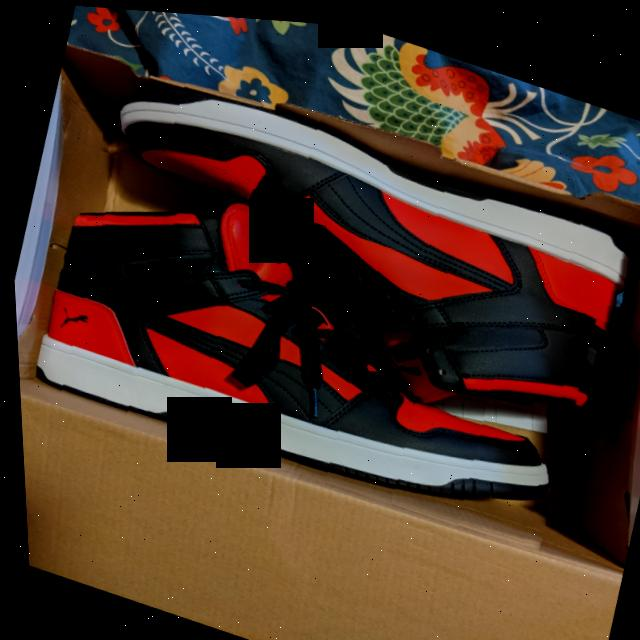shoe: (17, 140, 603, 556), (59, 44, 640, 451)
